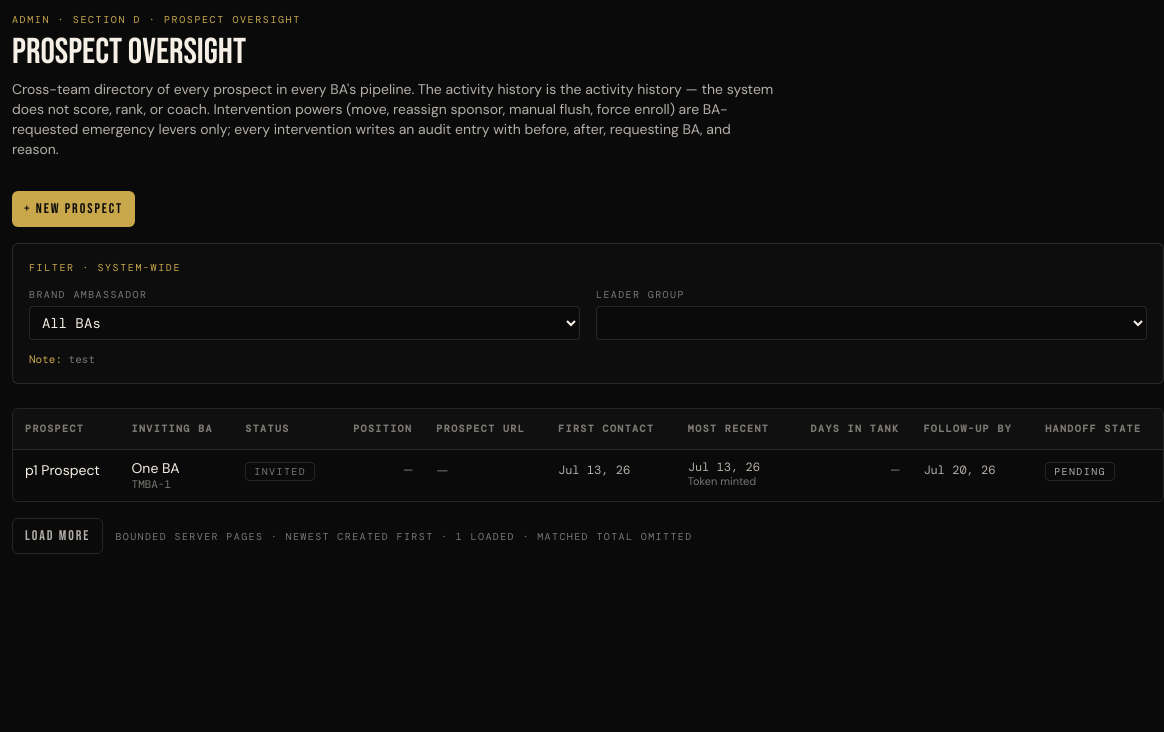
Scenario: Prospect admin bounded directory › appends pages, deduplicates canonical ids, and reports bounded truth
Click the button "Load more" at (58, 536), box x1=12 y1=518 x2=103 y2=554
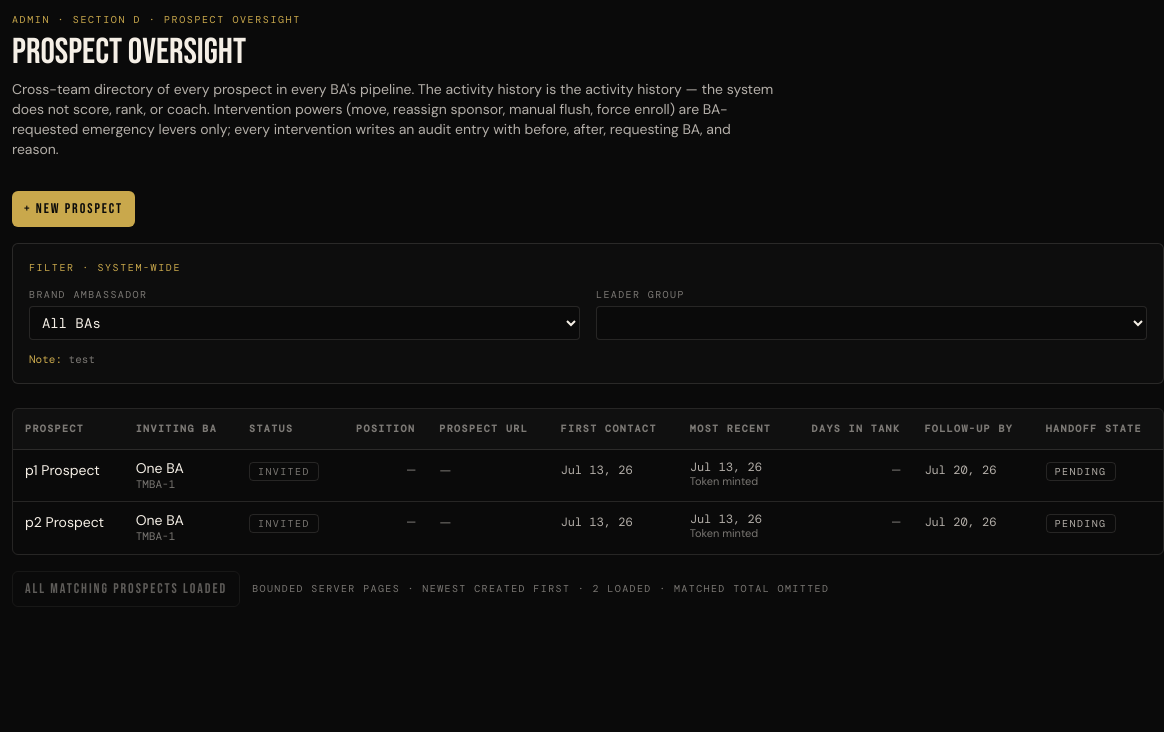
Expected: the text "p2 Prospect" is shown, x1=25 y1=513 x2=104 y2=531
Expected: the text "p1 Prospect" is shown once, x1=25 y1=461 x2=100 y2=479
Expected: the text "matched total omitted" shows "2 loaded", x1=252 y1=581 x2=829 y2=596
